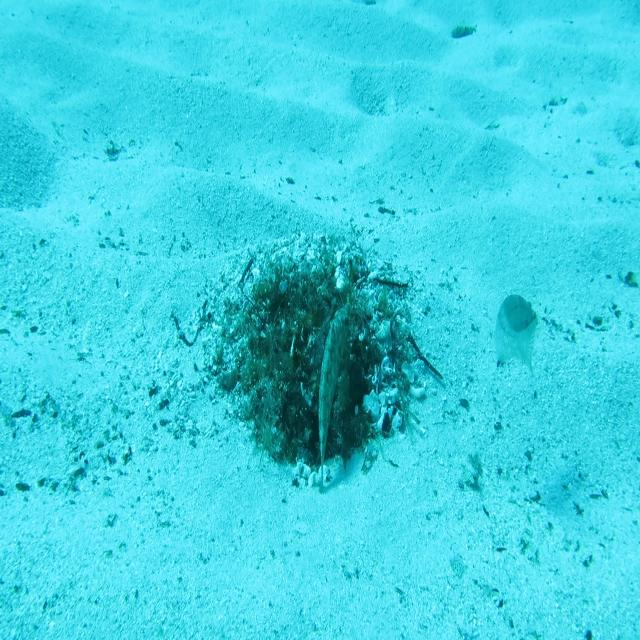LF: (314, 298, 356, 496)
core_nest: (284, 286, 329, 322)
female: (494, 291, 540, 382)
nest: (207, 230, 441, 502)
vegetation: (450, 26, 478, 42)
